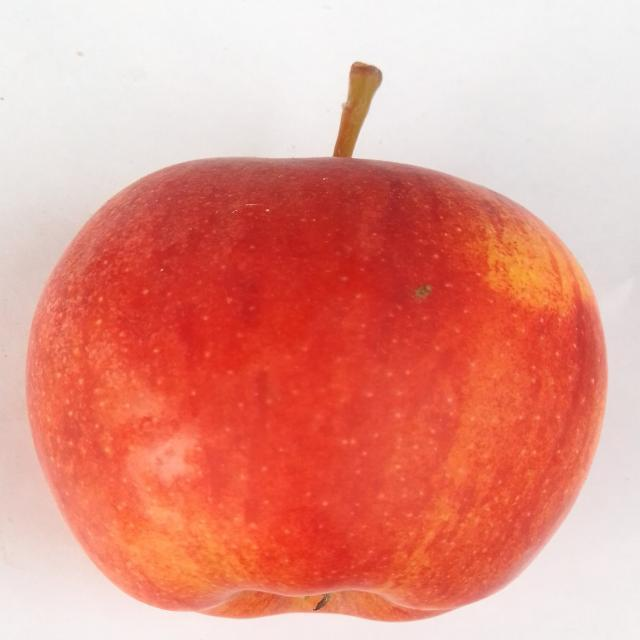Fresh Apple: (23, 148, 607, 620)
